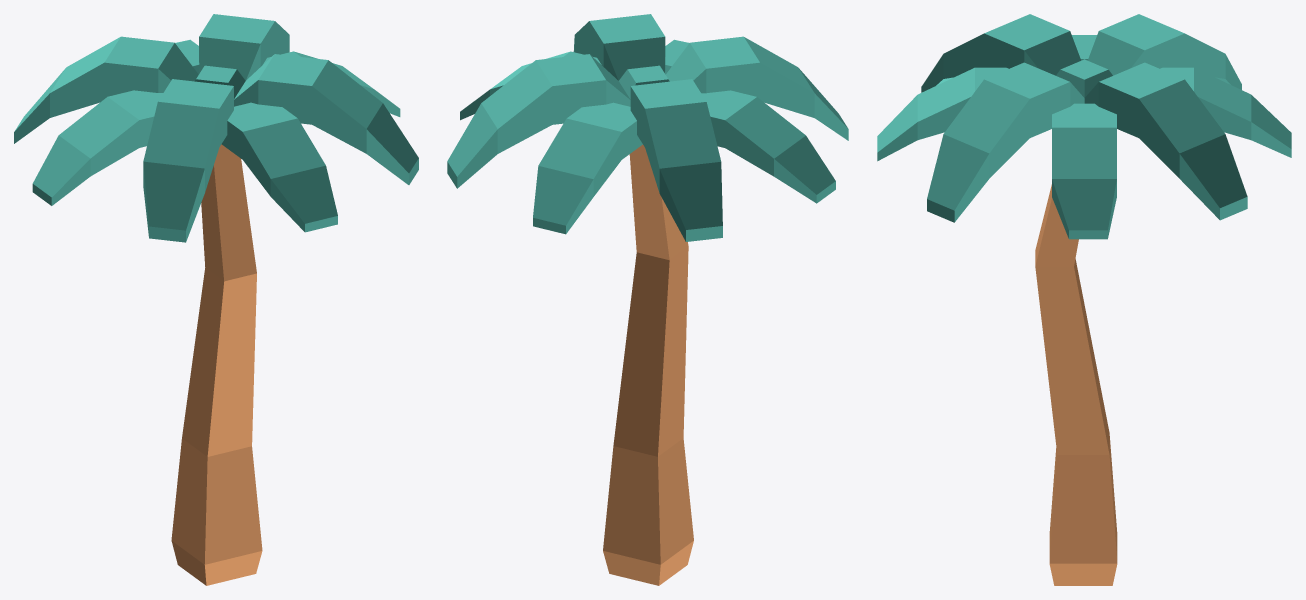
File: palmDetailed_large.obj
The picture shows the model from 3 angles, left to right: view 1: azimuth 30°, elevation 25°; view 2: azimuth 150°, elevation 25°; view 3: azimuth 270°, elevation 25°; orthographic projection.
Visible parts, largest first — view 1: Group 152, Group 150; view 2: Group 152, Group 150; view 3: Group 152, Group 150.
Part boxes in pixels (box(x1,y1,x2,y2)): Group 152: box(14, 14, 418, 242); Group 150: box(171, 144, 262, 585); Group 152: box(447, 14, 848, 241); Group 150: box(603, 144, 693, 585); Group 152: box(877, 14, 1291, 239); Group 150: box(1035, 184, 1117, 585).
Size of the model in its own units: 7.72 by 10.63 by 7.72.
